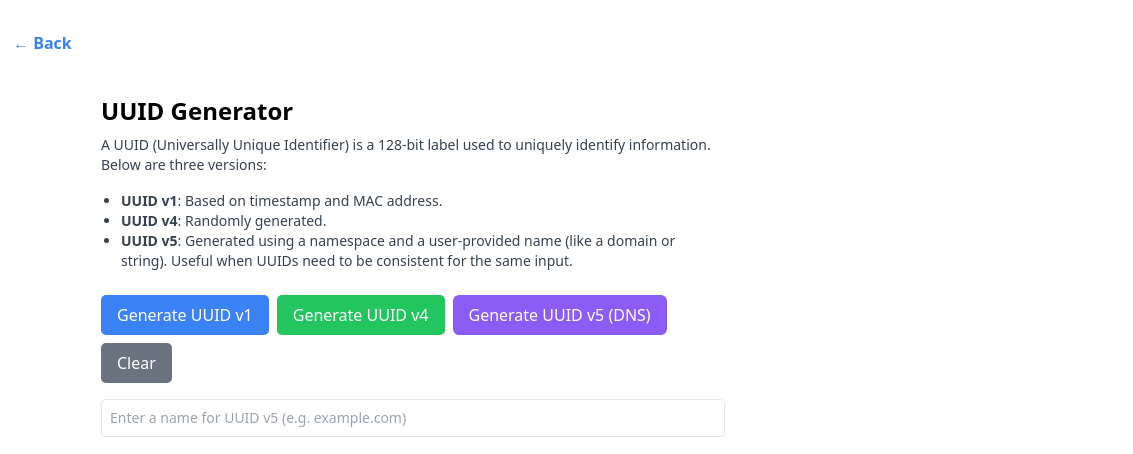
Test case: UuidGeneratorView › does not generate UUID v5 without input
The image size is (1133, 454).
Step 1. Click the button with class "btn-purple" → point(560, 315), box [452,295,667,335]
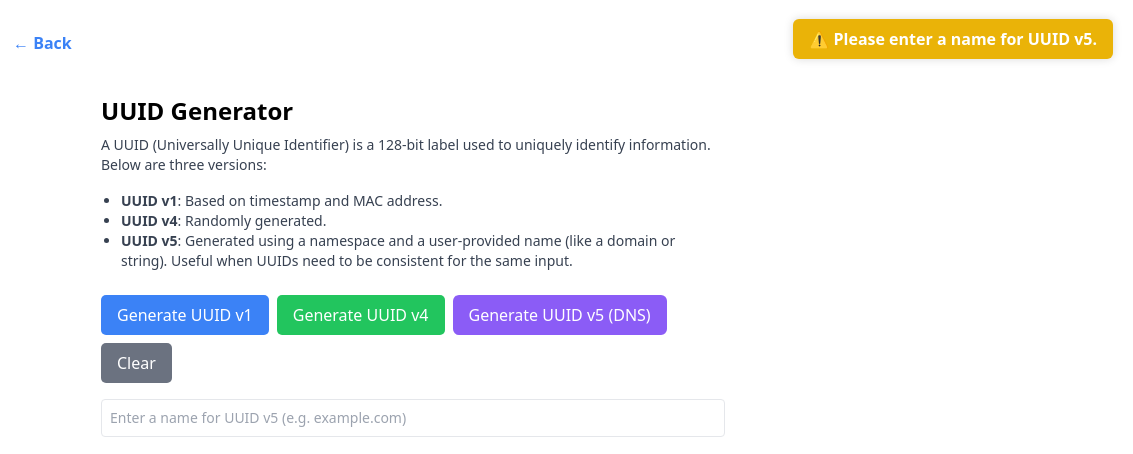
Now the text "Please enter a name for UUID v5" is shown, box [809,28,1097,50]
